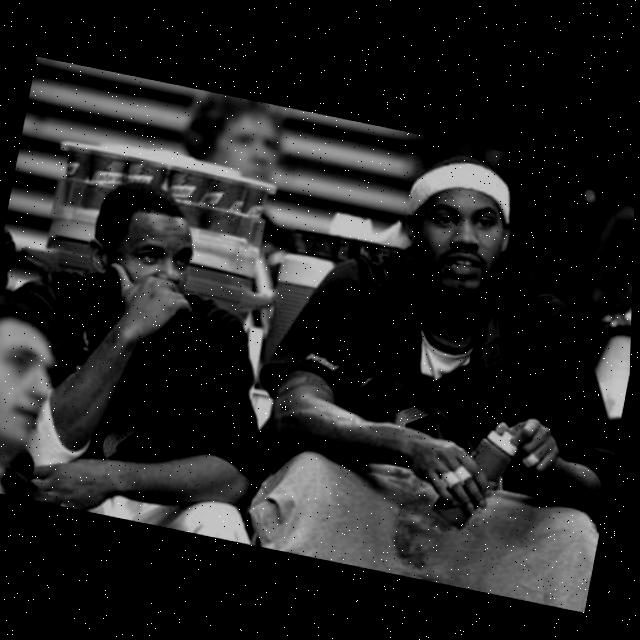face: (94, 199, 219, 335), (411, 174, 530, 296)
